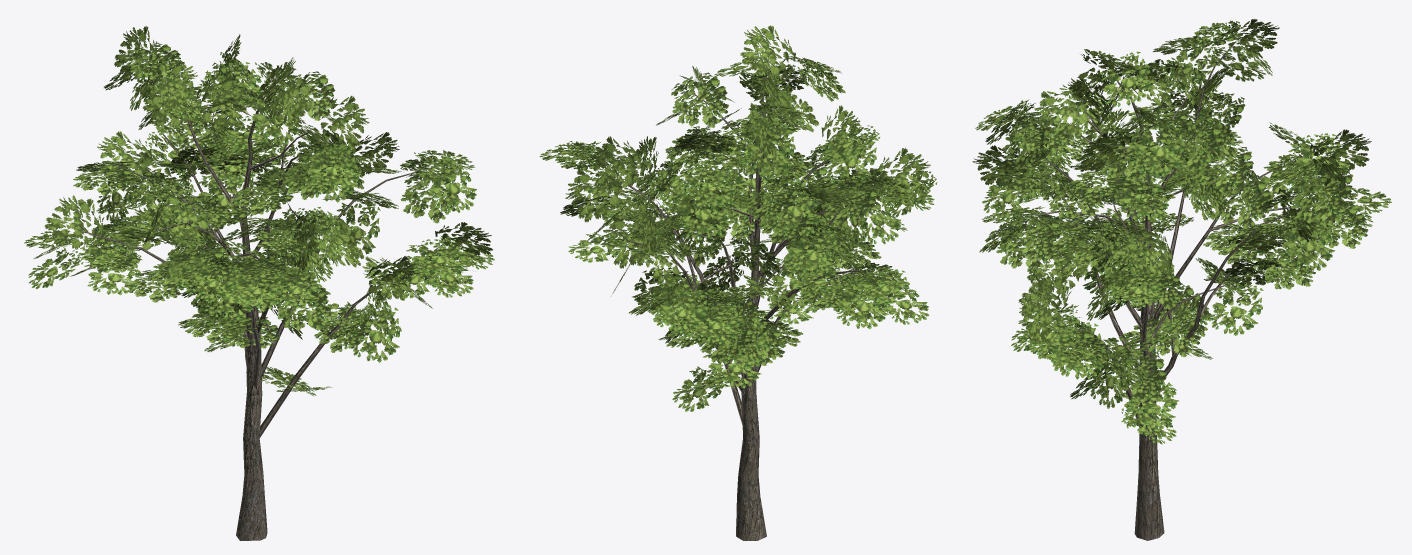
The model's file is tree2a_lod2.obj.
3 views of the same model, side by side, from view 1: azimuth 30°, elevation 25°; view 2: azimuth 150°, elevation 25°; view 3: azimuth 270°, elevation 25° (orthographic).
Visible parts, largest first — view 1: polySurface1628, polySurface1627; view 2: polySurface1628, polySurface1627; view 3: polySurface1628, polySurface1627.
Boxes of the visible parts, x1,y1,x2,y2 form: polySurface1628: (24,26,494,396); polySurface1627: (80,63,426,540); polySurface1628: (539,25,937,411); polySurface1627: (599,49,912,540); polySurface1628: (972,19,1391,444); polySurface1627: (1023,40,1318,540).
Size of the model in its own units: 16.39 by 18.67 by 14.45.
